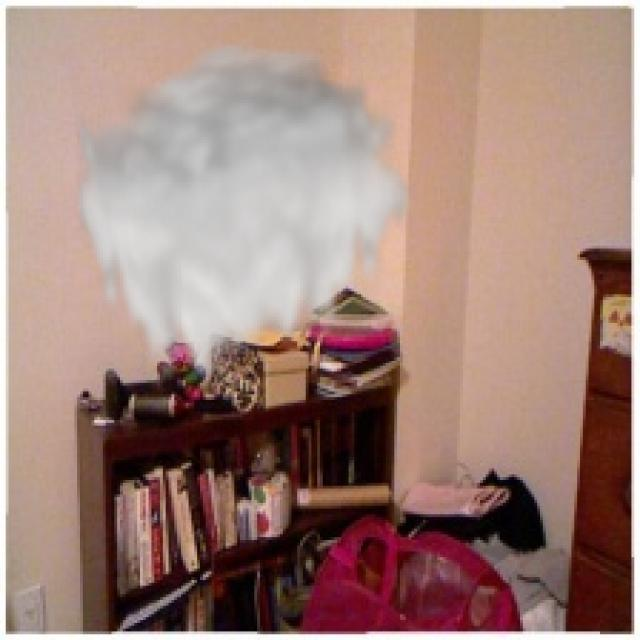Smoke: (72, 34, 417, 394)
